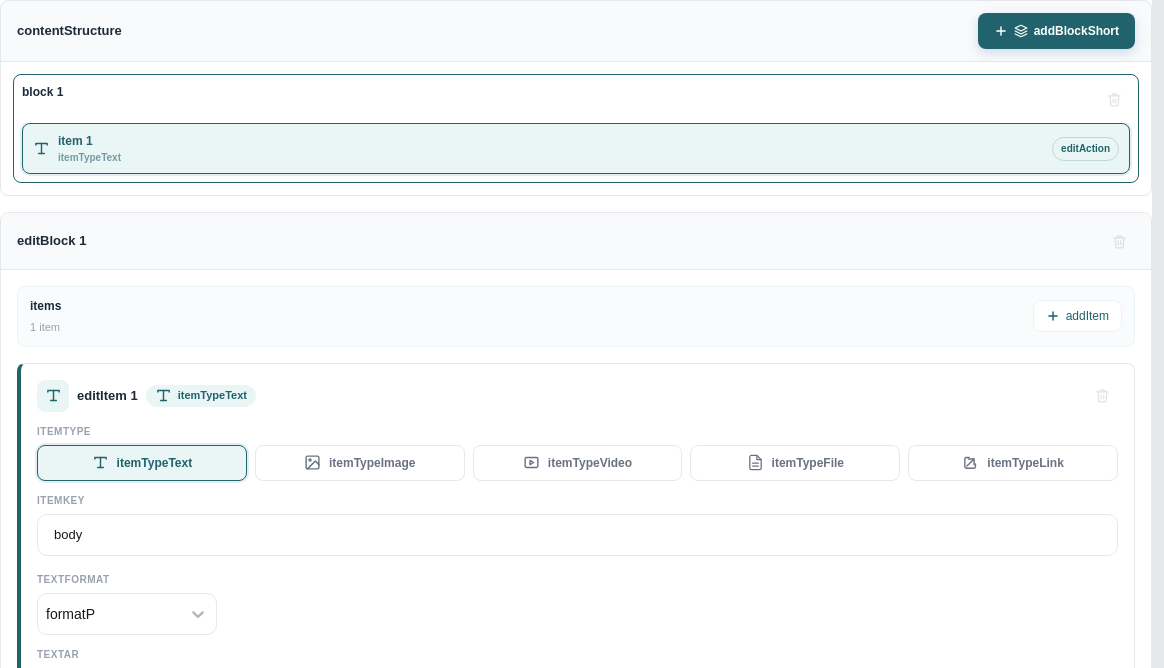
Test: CmsSectionContentEditor text formats › offers headings, paragraphs, and semantic list formats
Click the dropdown labelled "formatP": {"x": 70, "y": 614} [46,606,95,622]
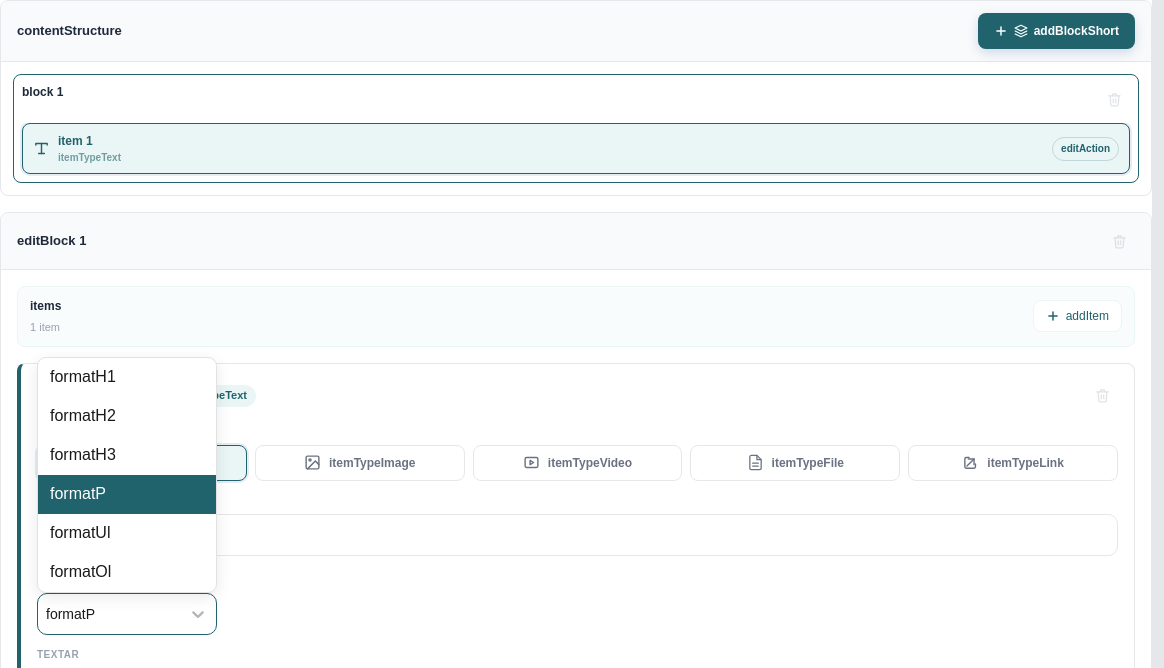
Expected: the options read "formatH1", "formatH2", "formatH3", "formatP", "formatUl", "formatOl", in this order, [50,368,116,385]; [50,407,116,424]; [50,446,116,463]; [38,475,216,514]; [50,524,110,541]; [50,563,111,580]
